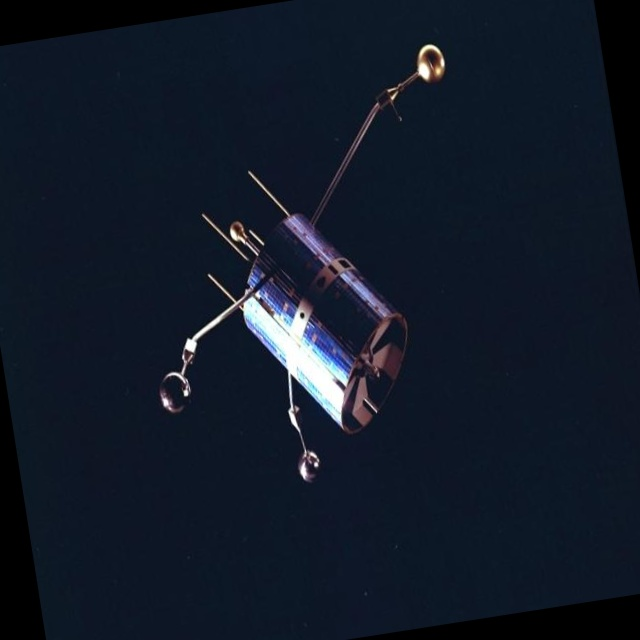satellite: (110, 38, 511, 508)
